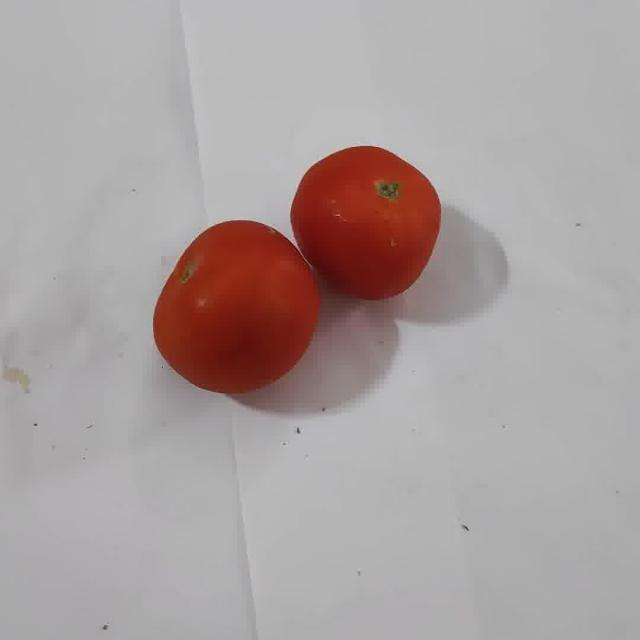Tomato: (153, 221, 319, 395), (291, 146, 440, 300)
